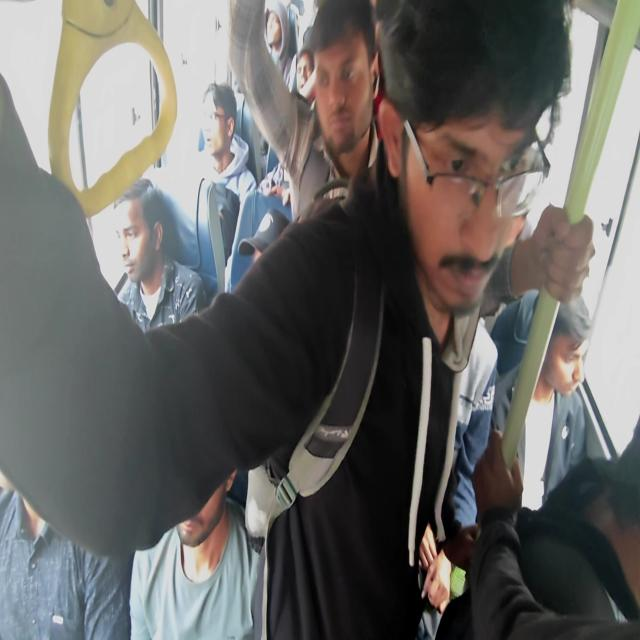person: (0, 0, 595, 638), (467, 416, 639, 638), (227, 0, 382, 224), (129, 468, 261, 638), (490, 288, 592, 508), (156, 81, 258, 295), (0, 485, 134, 639), (307, 0, 382, 196), (113, 178, 206, 334)
